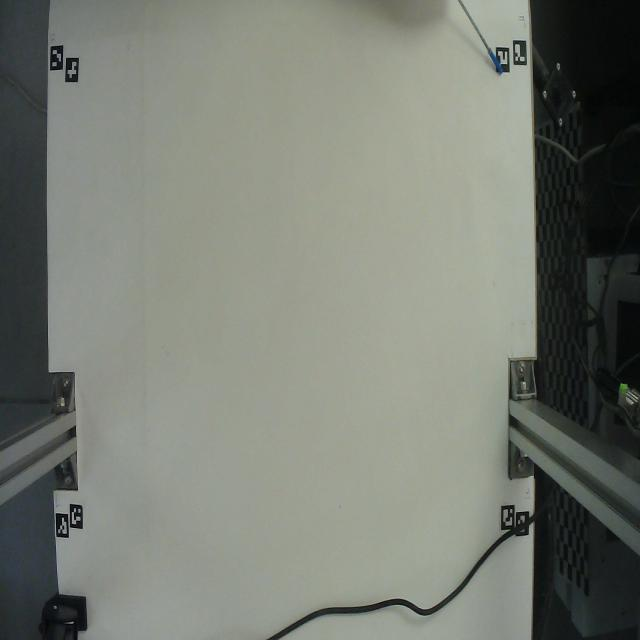Pres: (431, 0, 508, 109)
